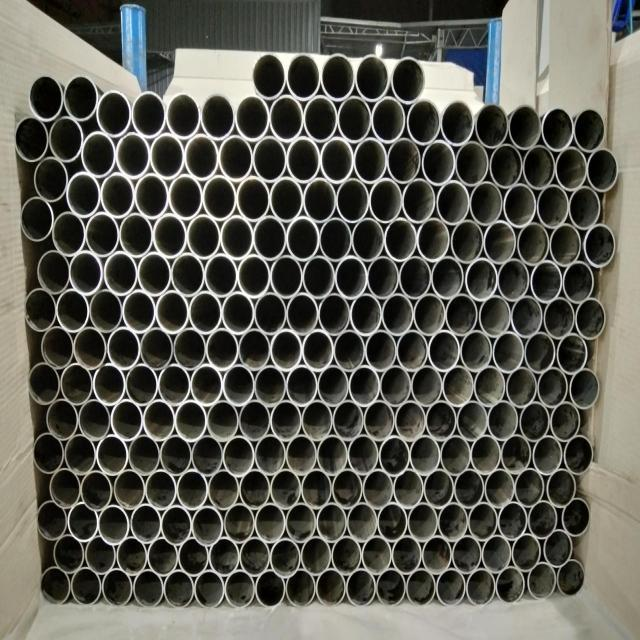pipe: (389, 55, 426, 104), (286, 51, 322, 100), (165, 90, 201, 139), (48, 115, 84, 164), (96, 89, 133, 136), (234, 93, 270, 141), (13, 114, 49, 162), (320, 52, 355, 101), (201, 91, 236, 140), (269, 93, 304, 142), (303, 94, 338, 143), (337, 94, 372, 143), (371, 94, 406, 143), (440, 97, 475, 146), (116, 130, 151, 179), (150, 131, 185, 180), (184, 132, 219, 181), (218, 133, 253, 182), (252, 134, 287, 183), (286, 135, 321, 184), (131, 91, 167, 138), (81, 130, 117, 177), (251, 51, 286, 99), (507, 101, 541, 150), (386, 136, 420, 185), (85, 210, 120, 257), (152, 212, 187, 259), (355, 54, 390, 101), (29, 73, 64, 120), (406, 97, 441, 144), (474, 101, 509, 148), (421, 138, 456, 185), (454, 140, 489, 187), (100, 171, 135, 218), (134, 172, 169, 219), (202, 174, 237, 221), (236, 175, 271, 222), (320, 136, 354, 184), (353, 136, 387, 184), (19, 196, 55, 241), (63, 74, 99, 119), (119, 212, 154, 258), (69, 249, 104, 295), (168, 173, 203, 219), (269, 176, 304, 222), (435, 179, 470, 225), (253, 214, 287, 261), (488, 142, 522, 189), (302, 176, 336, 223), (369, 177, 403, 224), (137, 251, 172, 296), (170, 252, 205, 297), (73, 325, 108, 370), (34, 156, 69, 201), (66, 171, 101, 216), (52, 210, 86, 256), (186, 213, 220, 259), (220, 214, 254, 260), (286, 215, 320, 261), (318, 216, 352, 262), (482, 219, 516, 265), (104, 250, 138, 296), (89, 287, 123, 333), (554, 144, 587, 191), (336, 176, 369, 223), (403, 177, 436, 224), (548, 222, 582, 267), (204, 253, 238, 298), (237, 253, 271, 298), (55, 287, 89, 332), (122, 288, 156, 333), (155, 289, 189, 334), (188, 290, 222, 335), (221, 290, 255, 335), (140, 326, 174, 371), (502, 182, 536, 227), (568, 184, 601, 230), (352, 216, 385, 262), (384, 216, 417, 262), (38, 248, 71, 294), (573, 106, 606, 152), (521, 144, 554, 190), (470, 180, 503, 226), (444, 293, 478, 337), (107, 326, 141, 370), (173, 326, 207, 370), (536, 184, 569, 229), (417, 217, 450, 262), (450, 218, 483, 263), (516, 221, 549, 266), (583, 223, 616, 268), (335, 255, 368, 300), (366, 255, 399, 300), (399, 255, 432, 300), (431, 255, 464, 300), (464, 257, 497, 302), (496, 257, 529, 302), (254, 291, 287, 336), (286, 291, 319, 336), (41, 324, 74, 369), (191, 362, 224, 407), (541, 106, 574, 151), (25, 286, 57, 332), (270, 254, 303, 298), (302, 255, 335, 299), (530, 259, 563, 303), (318, 292, 351, 336), (381, 292, 414, 336), (542, 296, 575, 340), (206, 327, 239, 371), (238, 327, 271, 371), (60, 361, 93, 405), (93, 362, 126, 406), (158, 362, 191, 406), (222, 363, 255, 407), (143, 398, 176, 442), (238, 398, 271, 442), (207, 398, 240, 442), (562, 259, 594, 304), (586, 147, 618, 192), (413, 293, 446, 336), (478, 294, 511, 337), (510, 295, 543, 338), (270, 328, 303, 371), (427, 329, 460, 372), (492, 330, 525, 373), (28, 361, 61, 404), (125, 362, 158, 405), (254, 364, 287, 407), (46, 397, 79, 440), (78, 398, 111, 441), (111, 398, 144, 441), (175, 399, 208, 442), (64, 433, 97, 476), (128, 433, 161, 476), (96, 433, 129, 476), (222, 434, 255, 477), (113, 468, 146, 511), (350, 292, 382, 336), (160, 434, 193, 476), (207, 468, 240, 510), (80, 469, 113, 511), (302, 329, 334, 372), (333, 329, 365, 372), (396, 329, 428, 372), (365, 329, 397, 372), (460, 329, 492, 372), (555, 332, 587, 375), (286, 364, 318, 407), (317, 364, 349, 407), (348, 364, 380, 407), (379, 364, 411, 407), (410, 364, 442, 407), (568, 367, 600, 410), (270, 398, 302, 441), (301, 398, 333, 441), (332, 398, 364, 441), (363, 399, 395, 442), (425, 399, 457, 442), (456, 399, 488, 442), (394, 399, 426, 442), (33, 432, 65, 475), (254, 433, 286, 476), (316, 433, 348, 476), (285, 433, 317, 476), (347, 433, 379, 476), (176, 468, 208, 511), (254, 501, 286, 544), (575, 296, 606, 340), (98, 503, 131, 544), (192, 504, 225, 545), (442, 365, 474, 407), (473, 365, 505, 407), (505, 366, 537, 408), (191, 434, 223, 476), (439, 434, 471, 476), (409, 434, 441, 476), (378, 434, 410, 476), (49, 467, 81, 509), (300, 467, 332, 509), (470, 433, 501, 476), (270, 467, 301, 510), (146, 467, 177, 510), (561, 497, 592, 540), (286, 501, 317, 544), (523, 332, 555, 373), (486, 400, 518, 441), (518, 401, 550, 442), (531, 434, 563, 475), (239, 468, 271, 509), (362, 468, 394, 509), (130, 503, 162, 544), (537, 366, 568, 408), (501, 433, 532, 475), (332, 467, 363, 509), (316, 501, 347, 543), (224, 502, 255, 544), (161, 503, 192, 545), (392, 468, 424, 508), (53, 533, 85, 573), (484, 467, 515, 508), (37, 500, 68, 541), (437, 501, 468, 542), (407, 501, 438, 542), (347, 502, 378, 543), (451, 534, 482, 575), (361, 534, 392, 575), (421, 534, 452, 575), (239, 535, 270, 576), (545, 468, 577, 507), (84, 535, 116, 574), (116, 536, 148, 575), (177, 537, 209, 576), (514, 467, 545, 507), (454, 468, 485, 508), (67, 501, 98, 541), (331, 535, 362, 575), (301, 535, 332, 575), (209, 536, 240, 576), (270, 537, 301, 577), (40, 565, 71, 605), (70, 566, 101, 606), (466, 567, 497, 607), (286, 568, 317, 608), (133, 568, 164, 608), (255, 569, 286, 609), (549, 401, 579, 442), (563, 434, 593, 475), (423, 467, 453, 508), (497, 500, 527, 541), (468, 501, 498, 542), (377, 501, 407, 542), (482, 533, 512, 574), (392, 534, 422, 575), (225, 568, 255, 609), (527, 500, 559, 538), (147, 536, 178, 575), (495, 565, 526, 604), (102, 567, 133, 606), (405, 567, 436, 606), (376, 566, 406, 606), (435, 566, 465, 606), (346, 567, 376, 607), (316, 567, 346, 607), (195, 568, 225, 608), (543, 529, 574, 567), (527, 561, 557, 600), (164, 569, 194, 608), (512, 533, 542, 571), (557, 558, 586, 597)
